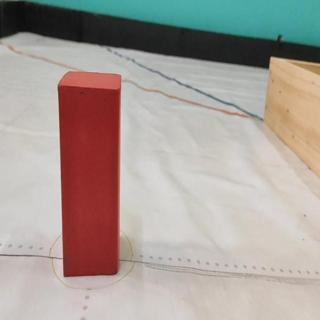redbox: (57, 69, 121, 277)
